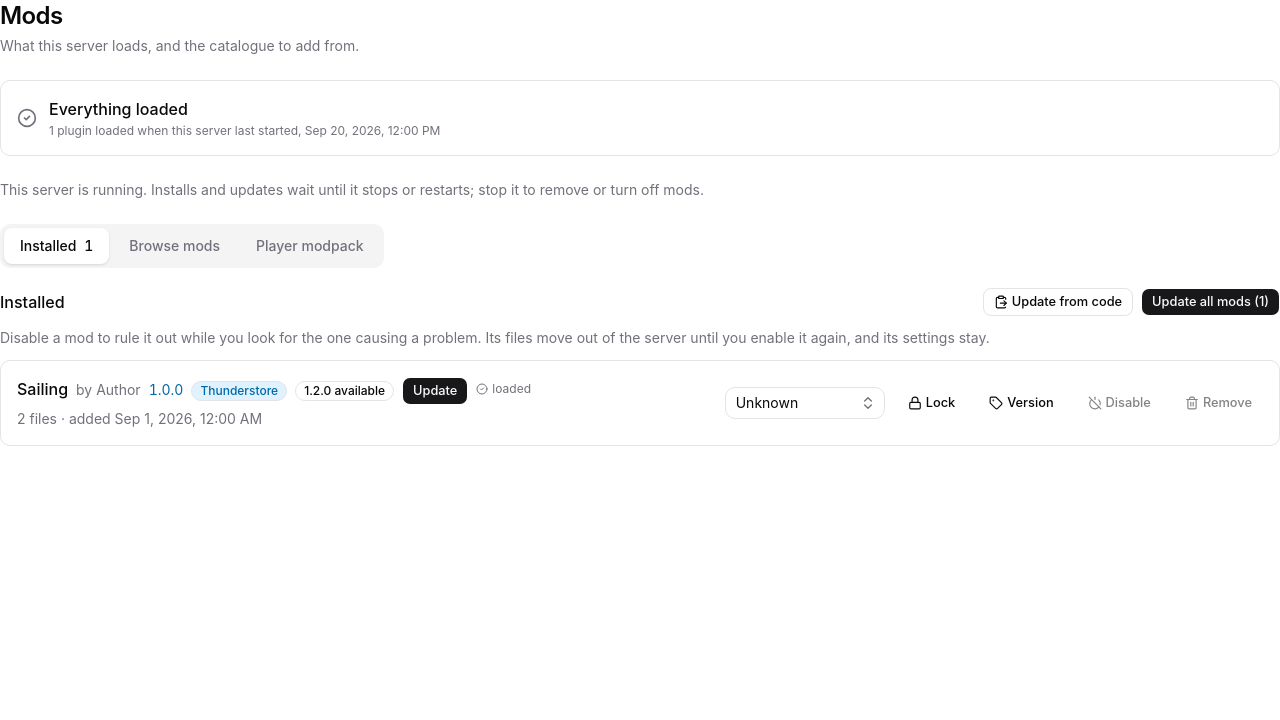
Test: the mod screen › queues every update in one request on a running server instead of starting a job
Step 1. Click the button "Update all mods (1)" → (1211, 302), box x1=1141 y1=288 x2=1279 y2=316
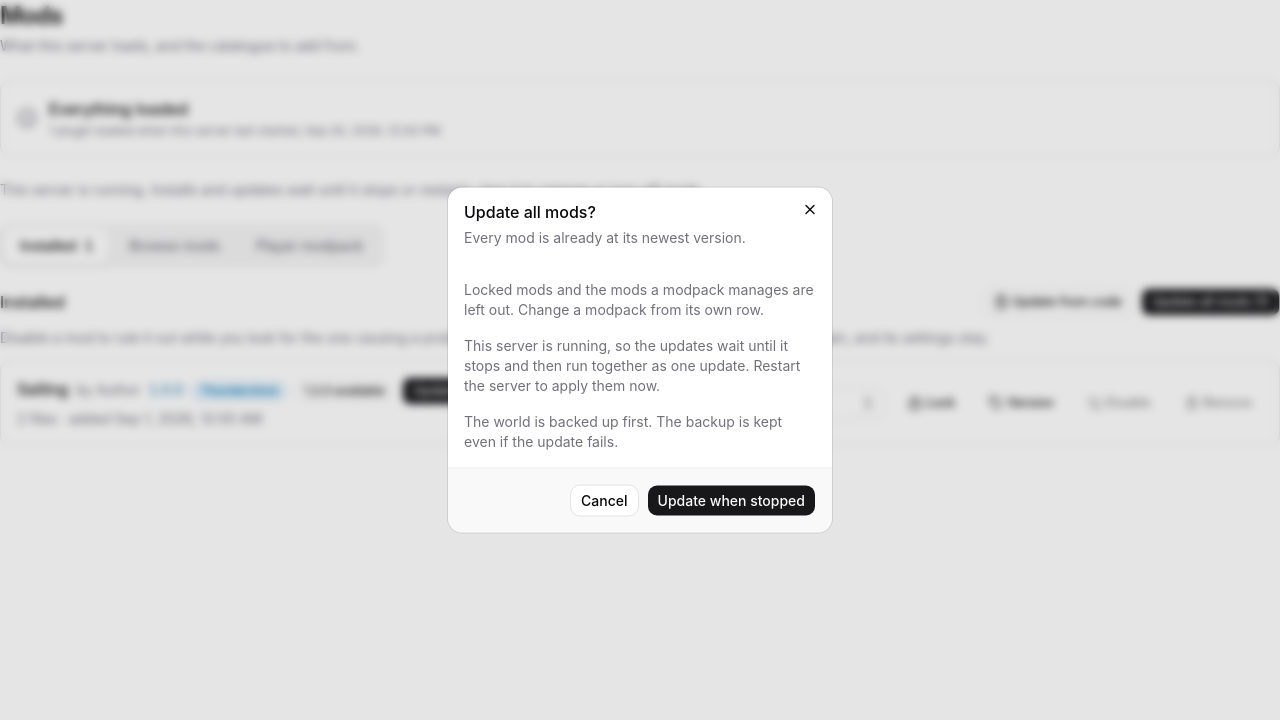
Result: the text with test id "update-all-queue-notice" is shown at x1=464 y1=336 x2=816 y2=396
Step 2. Click the button "Update when stopped" → (731, 500), box x1=647 y1=484 x2=816 y2=516
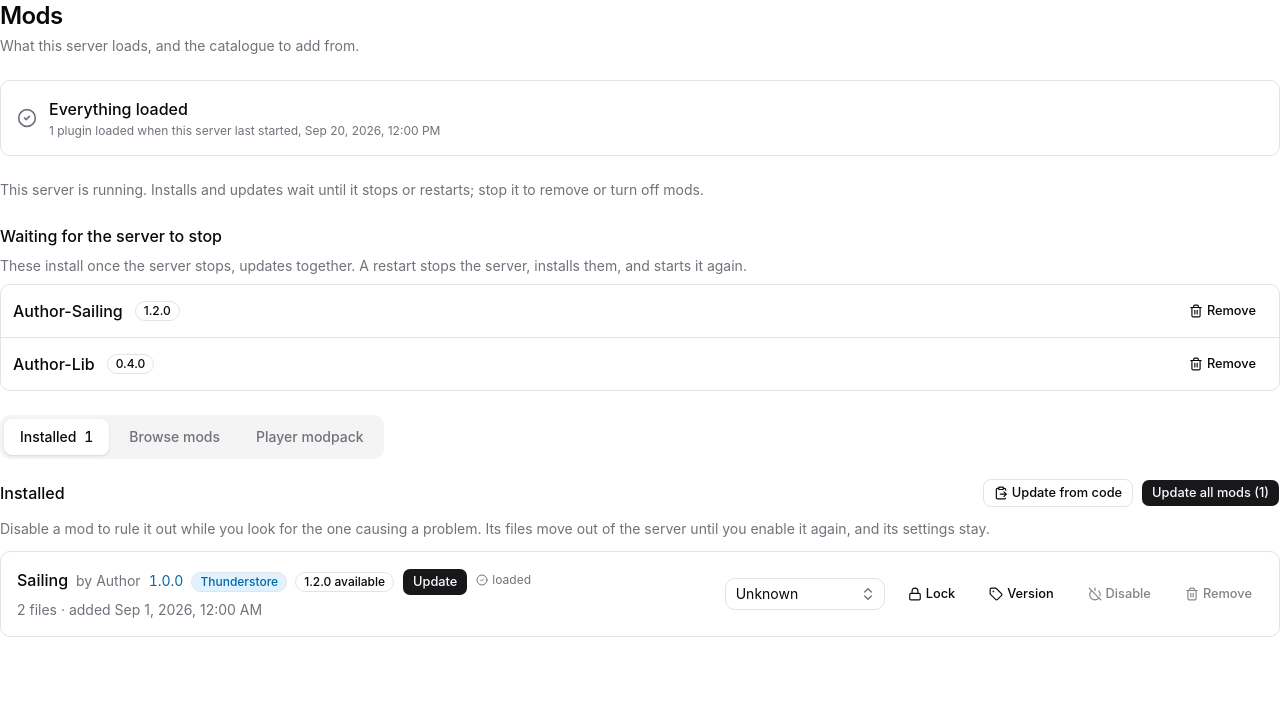
Result: the element with test id "mod-queue" shows "Author-Lib" at x1=13 y1=354 x2=95 y2=374
